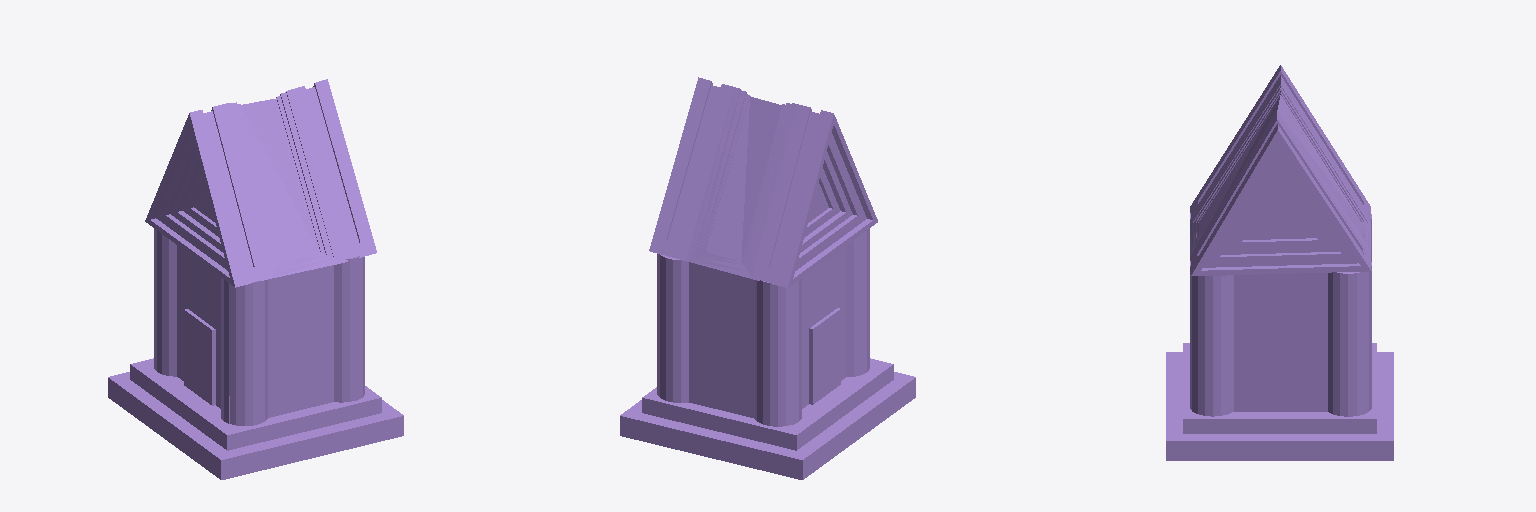
File: mosalium.obj
3 views of the same model, side by side, from view 1: azimuth 30°, elevation 25°; view 2: azimuth 150°, elevation 25°; view 3: azimuth 270°, elevation 25° (orthographic).
Visible parts, largest first — view 1: Box001, Object002, Object001; view 2: Box001, Object002, Object001; view 3: Box001, Object002.
Boxes of the visible parts, <box> form: Box001: <box>108,79,403,479</box>; Object002: <box>177,245,333,417</box>; Object001: <box>184,310,211,404</box>; Box001: <box>620,77,915,479</box>; Object002: <box>689,246,845,418</box>; Object001: <box>813,309,840,404</box>; Box001: <box>1166,65,1393,460</box>; Object002: <box>1234,273,1327,411</box>.
Bounding box in the file's own units: 101 × 170 × 109.